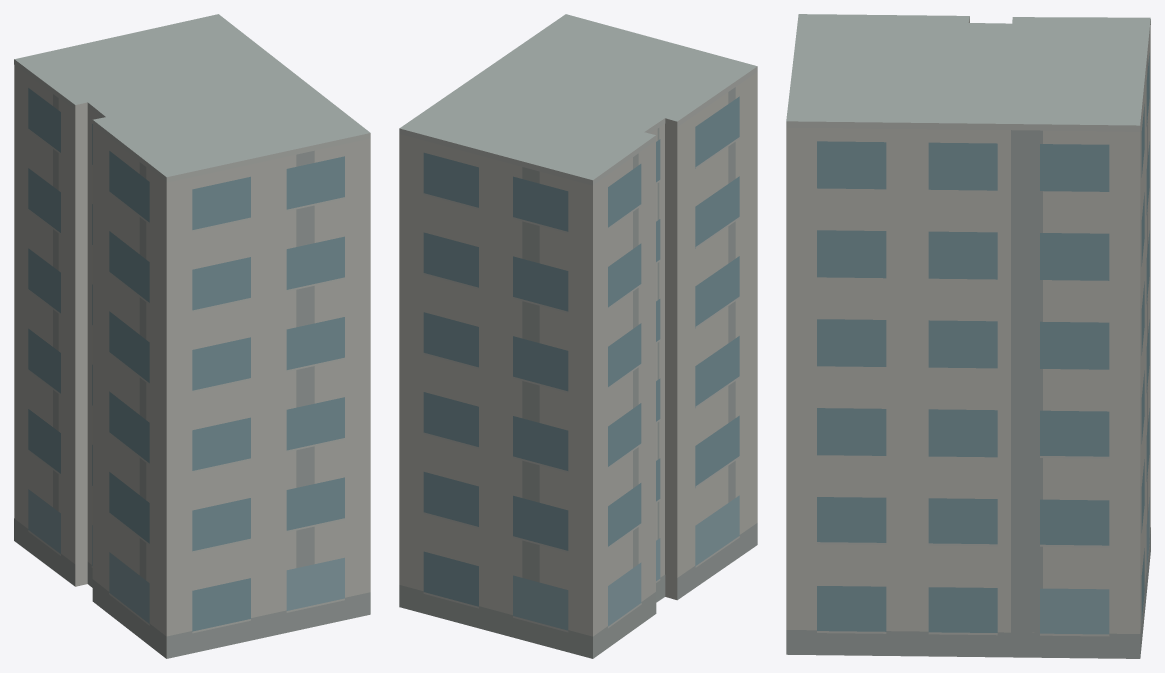
The model's file is survey-upis-32994247.glb.
3 views of the same model, side by side, from view 1: azimuth 30°, elevation 25°; view 2: azimuth 150°, elevation 25°; view 3: azimuth 270°, elevation 25° (orthographic). The views are drawn at different scales.
Parts seen in each view (by area): view 1: survey-upis-32994247.tmp; view 2: survey-upis-32994247.tmp; view 3: survey-upis-32994247.tmp.
Part boxes in pixels (bbox=[...]): survey-upis-32994247.tmp: bbox=[14, 14, 370, 658]; survey-upis-32994247.tmp: bbox=[399, 14, 757, 658]; survey-upis-32994247.tmp: bbox=[786, 14, 1150, 658].
Size of the model in its own units: 9.47 by 21.1 by 13.08.
